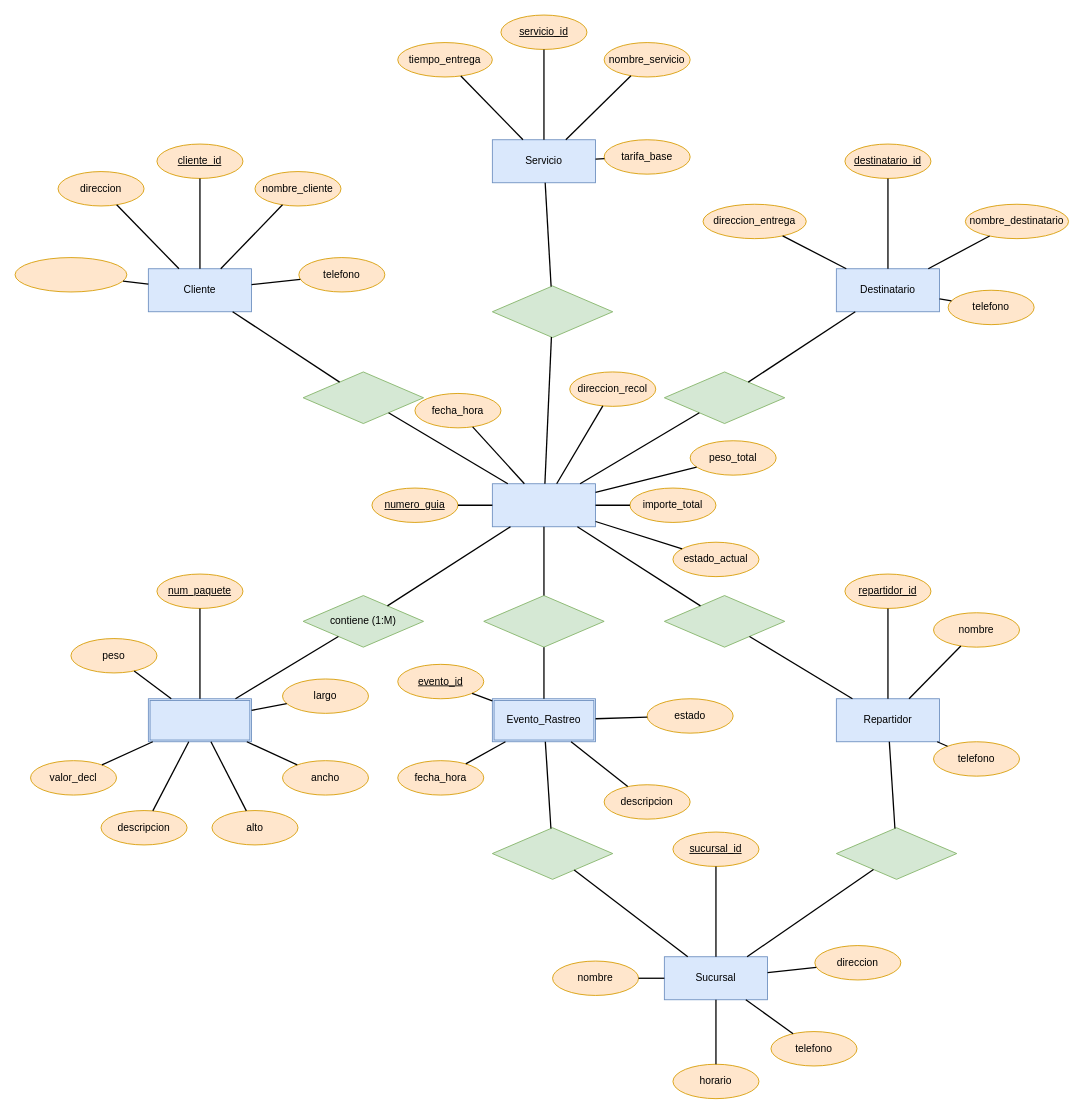
Some shapes in this 1084 by 1114 pixel diagram are drawn without their labels. Each missing label, with the box of its shape:
contrata (1:M): (491, 285, 613, 338)
correo_electronico: (14, 257, 127, 292)
entrega (1:M): (663, 595, 785, 647)
Envio: (491, 483, 596, 527)
genera (1:M): (483, 595, 604, 647)
ocurre_en (1:M): (491, 827, 613, 879)
Paquete: (147, 698, 252, 742)
pertenece_a (1:M): (835, 827, 957, 879)
realiza (1:M): (302, 371, 424, 424)
recibe (1:M): (663, 371, 785, 424)
